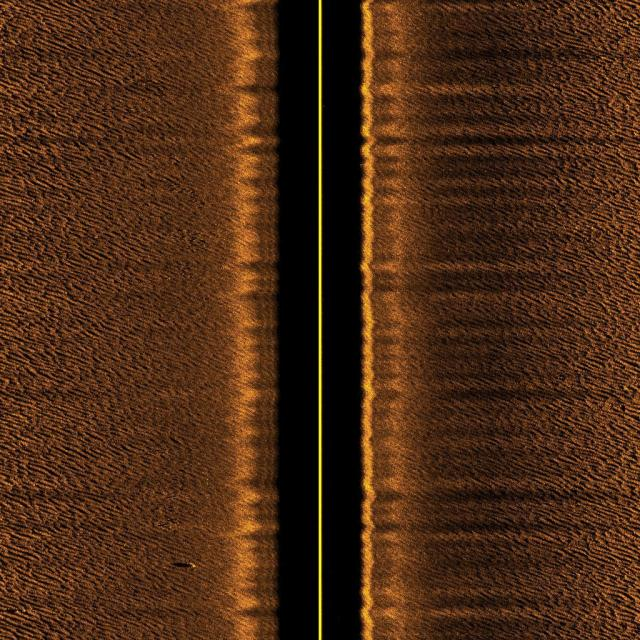other: (173, 561, 203, 573)
